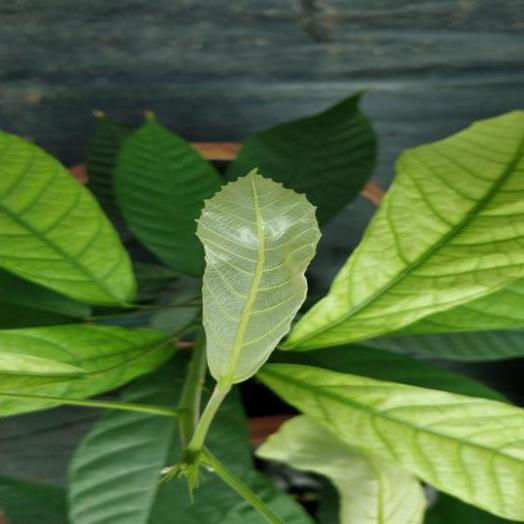Healthy Leaf: (227, 93, 375, 224), (65, 413, 234, 523), (114, 115, 223, 274), (87, 112, 129, 221)
Iron: (284, 111, 523, 349), (259, 364, 523, 520), (190, 169, 320, 448), (0, 132, 135, 304), (257, 416, 425, 523), (1, 323, 169, 420)
